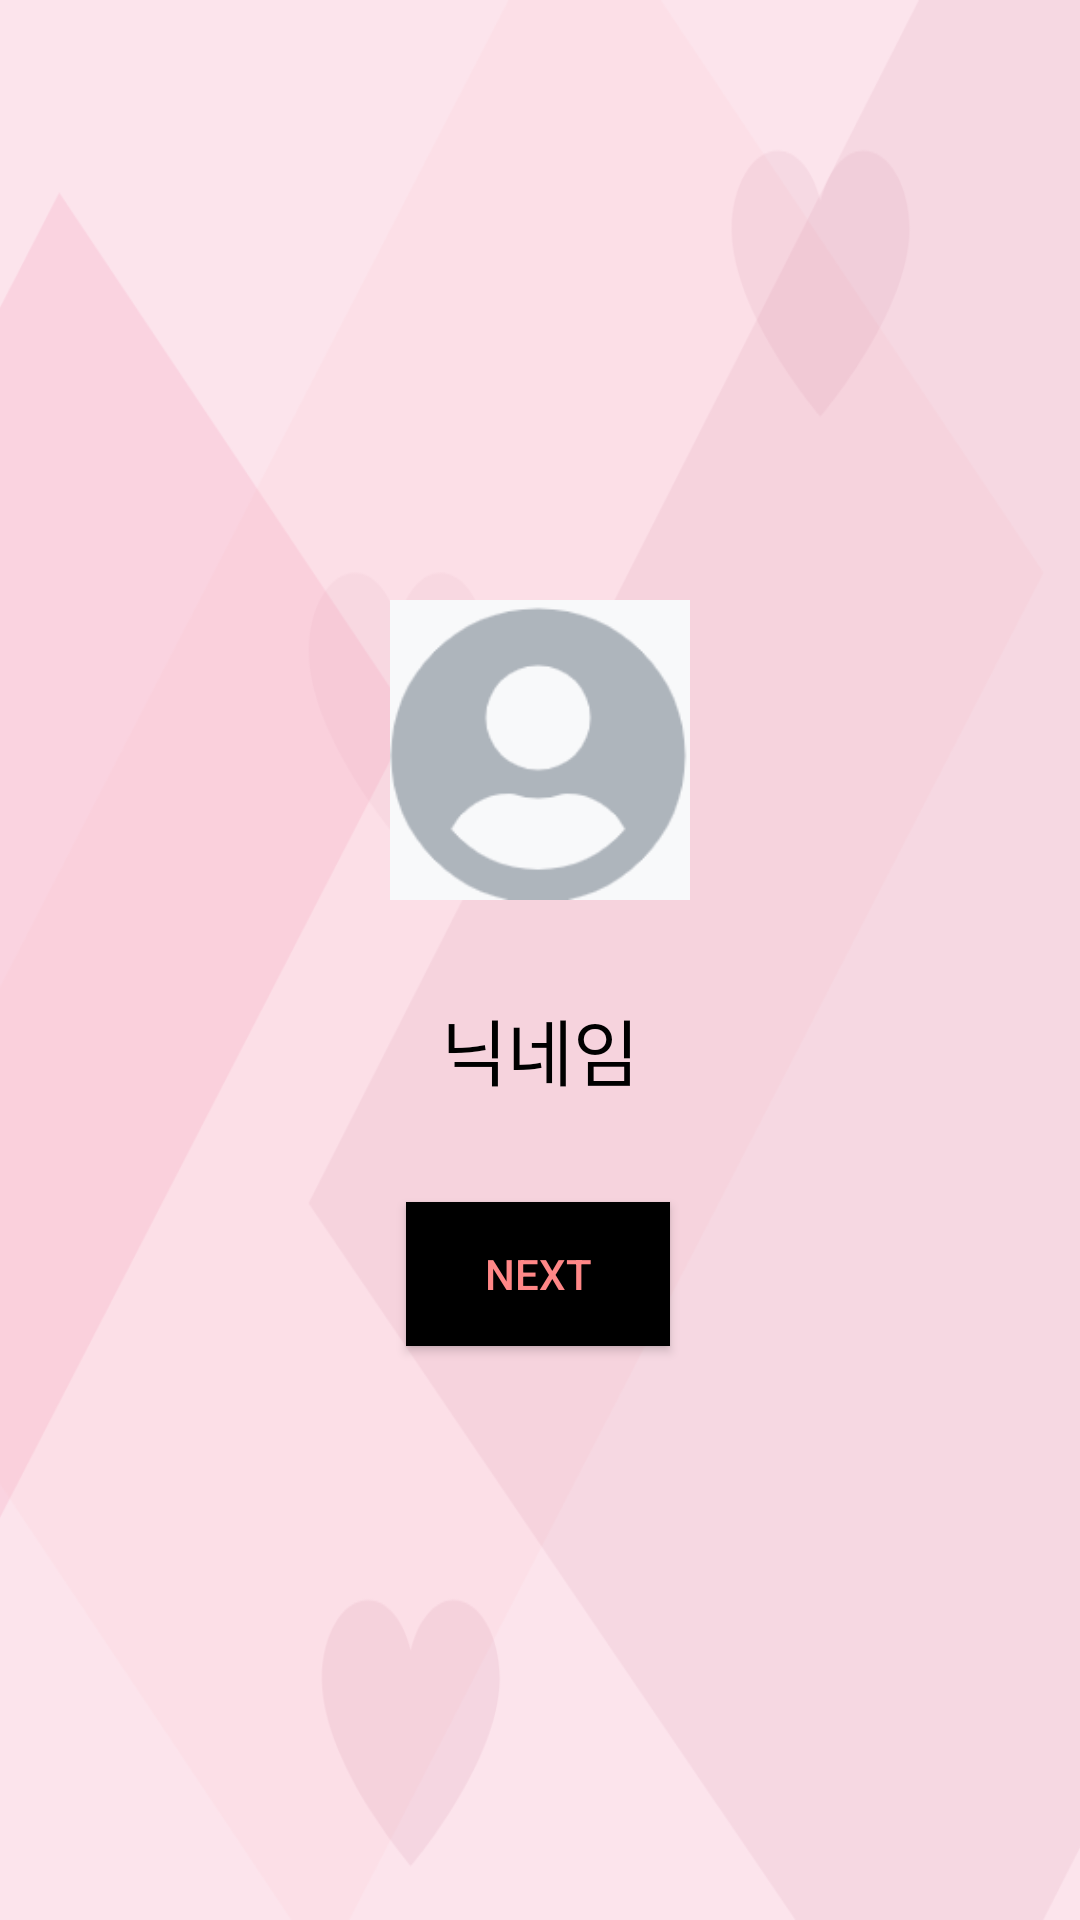

Locate icon controls on the screen. Image size 1080 × 1920, boxes as (x1, y1, x2, y2).
profile pic: (390, 600, 690, 900)
